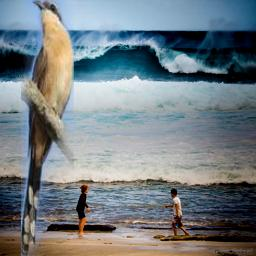Cuckoo: (21, 0, 74, 256)
